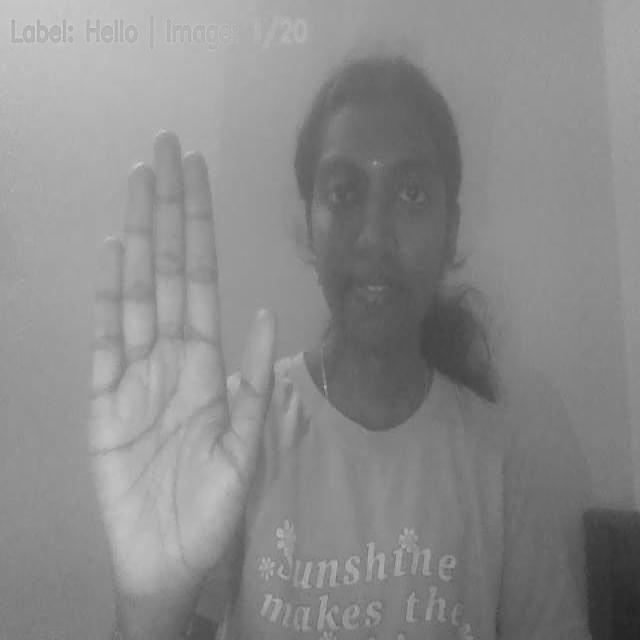Hello: (82, 121, 282, 599)
